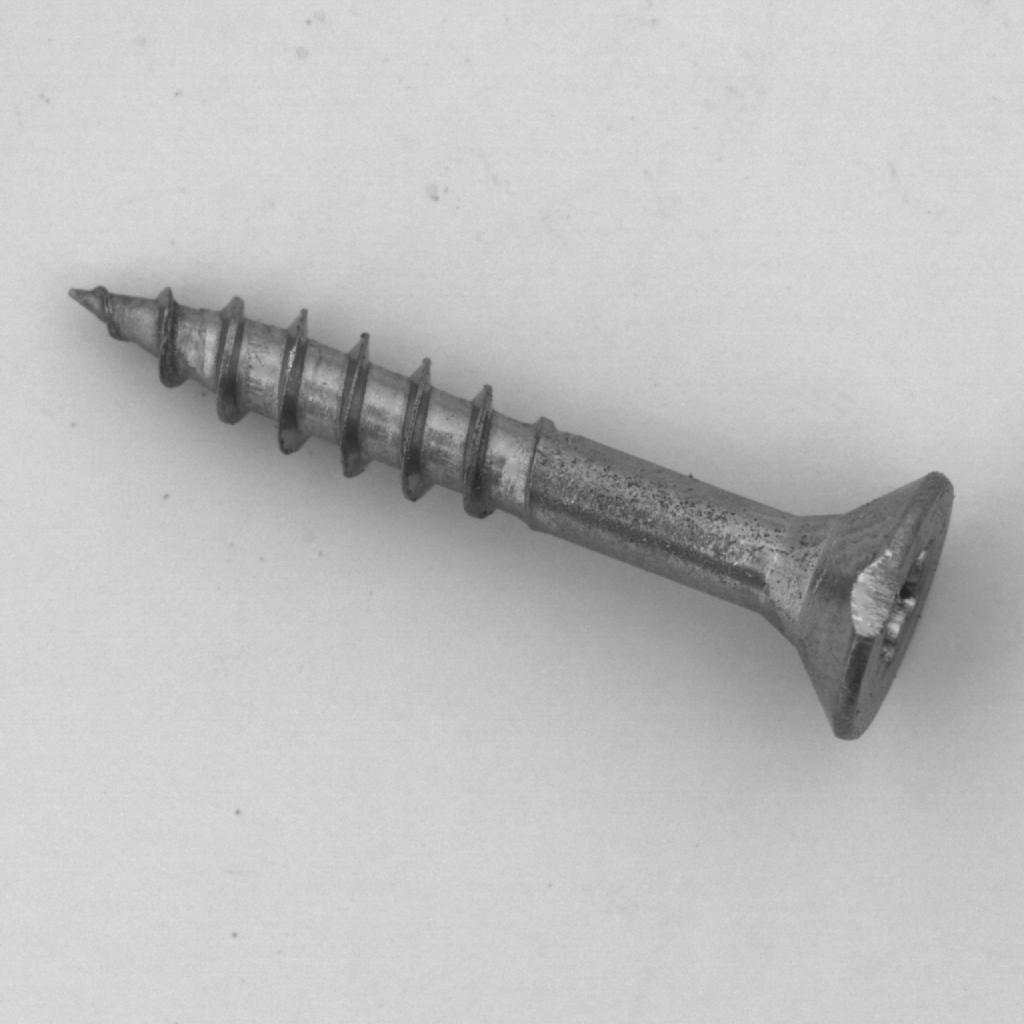bad: (37, 237, 971, 794)
